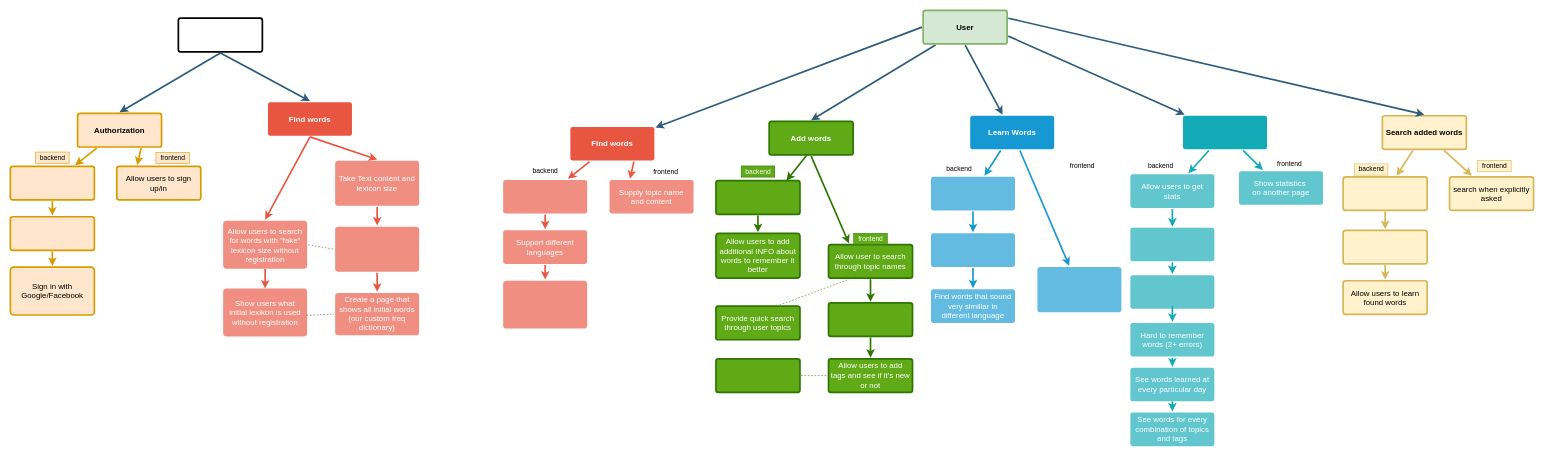
Some shapes in this 1544 by 456 pixel diagram are drawn without their labels. Here are the shapes that lost their labels. From the top down, the centre of each, then its label:
At (x=220, y=34): "Visitor".
At (x=1225, y=132): "User Statistics".
At (x=52, y=182): "Allow for sign IN/UP of users using JWT".
At (x=545, y=196): "Find words in topic content".
At (x=758, y=197): "When adding words calculate their sound for later search".
At (x=973, y=193): "Find words that sound very simillar".
At (x=1385, y=193): "Allow search by tags and topic names".
At (x=52, y=233): "OAUTH2".
At (x=377, y=248): "Allow users to search words as a demo without registration".
At (x=973, y=250): "Interval repetition".
At (x=1172, y=244): "Words learned at every day since the first day".
At (x=1385, y=246): "Allow users to change added words".
At (x=545, y=304): "Use NLP for tokenization to reduce the amount of found words".
At (x=1079, y=289): "Repeat words, by constantly typing them with more and more omitted letters".
At (x=1172, y=291): "Dynamics (производная) of studying".
At (x=870, y=319): "Let user know whether he's adding words to existing or new topic".
At (x=758, y=375): "Provide quick search through all user tags".
